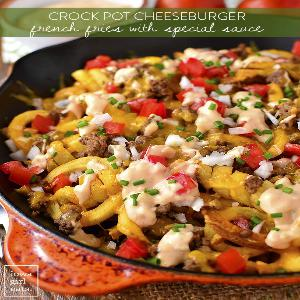fries: (20, 47, 300, 275)
